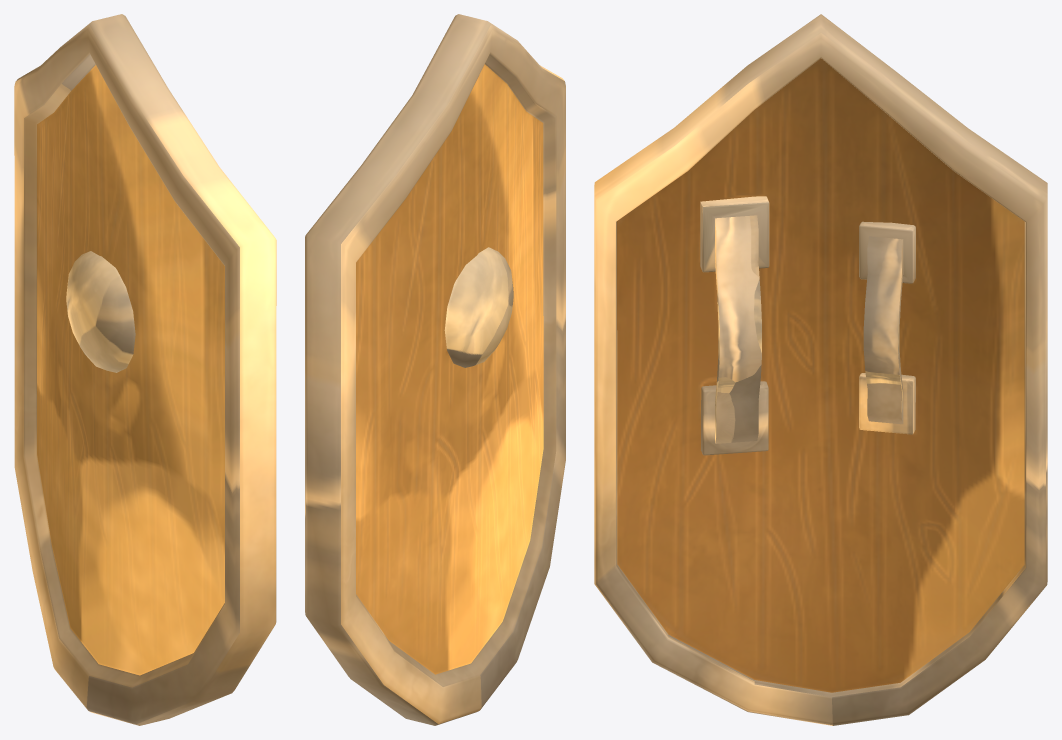
File: SM_Shield.fbx
3 renders of one model, left to right at view 1: azimuth 30°, elevation 25°; view 2: azimuth 150°, elevation 25°; view 3: azimuth 270°, elevation 25°, orthographic.
Parts seen in each view (by area): view 1: SM_Shield_LOD0; view 2: SM_Shield_LOD0; view 3: SM_Shield_LOD0.
Boxes of the visible parts, box(x1,y1,x2,y2) form: SM_Shield_LOD0: box(14, 14, 276, 725); SM_Shield_LOD0: box(305, 14, 565, 725); SM_Shield_LOD0: box(594, 14, 1047, 725).
Bounding box in the file's own units: 10.09 × 43.91 × 74.32.
